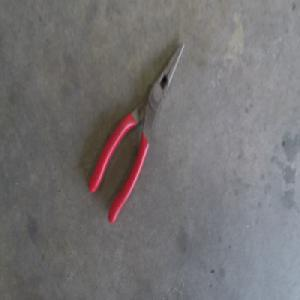Pliers: (89, 37, 185, 221)
